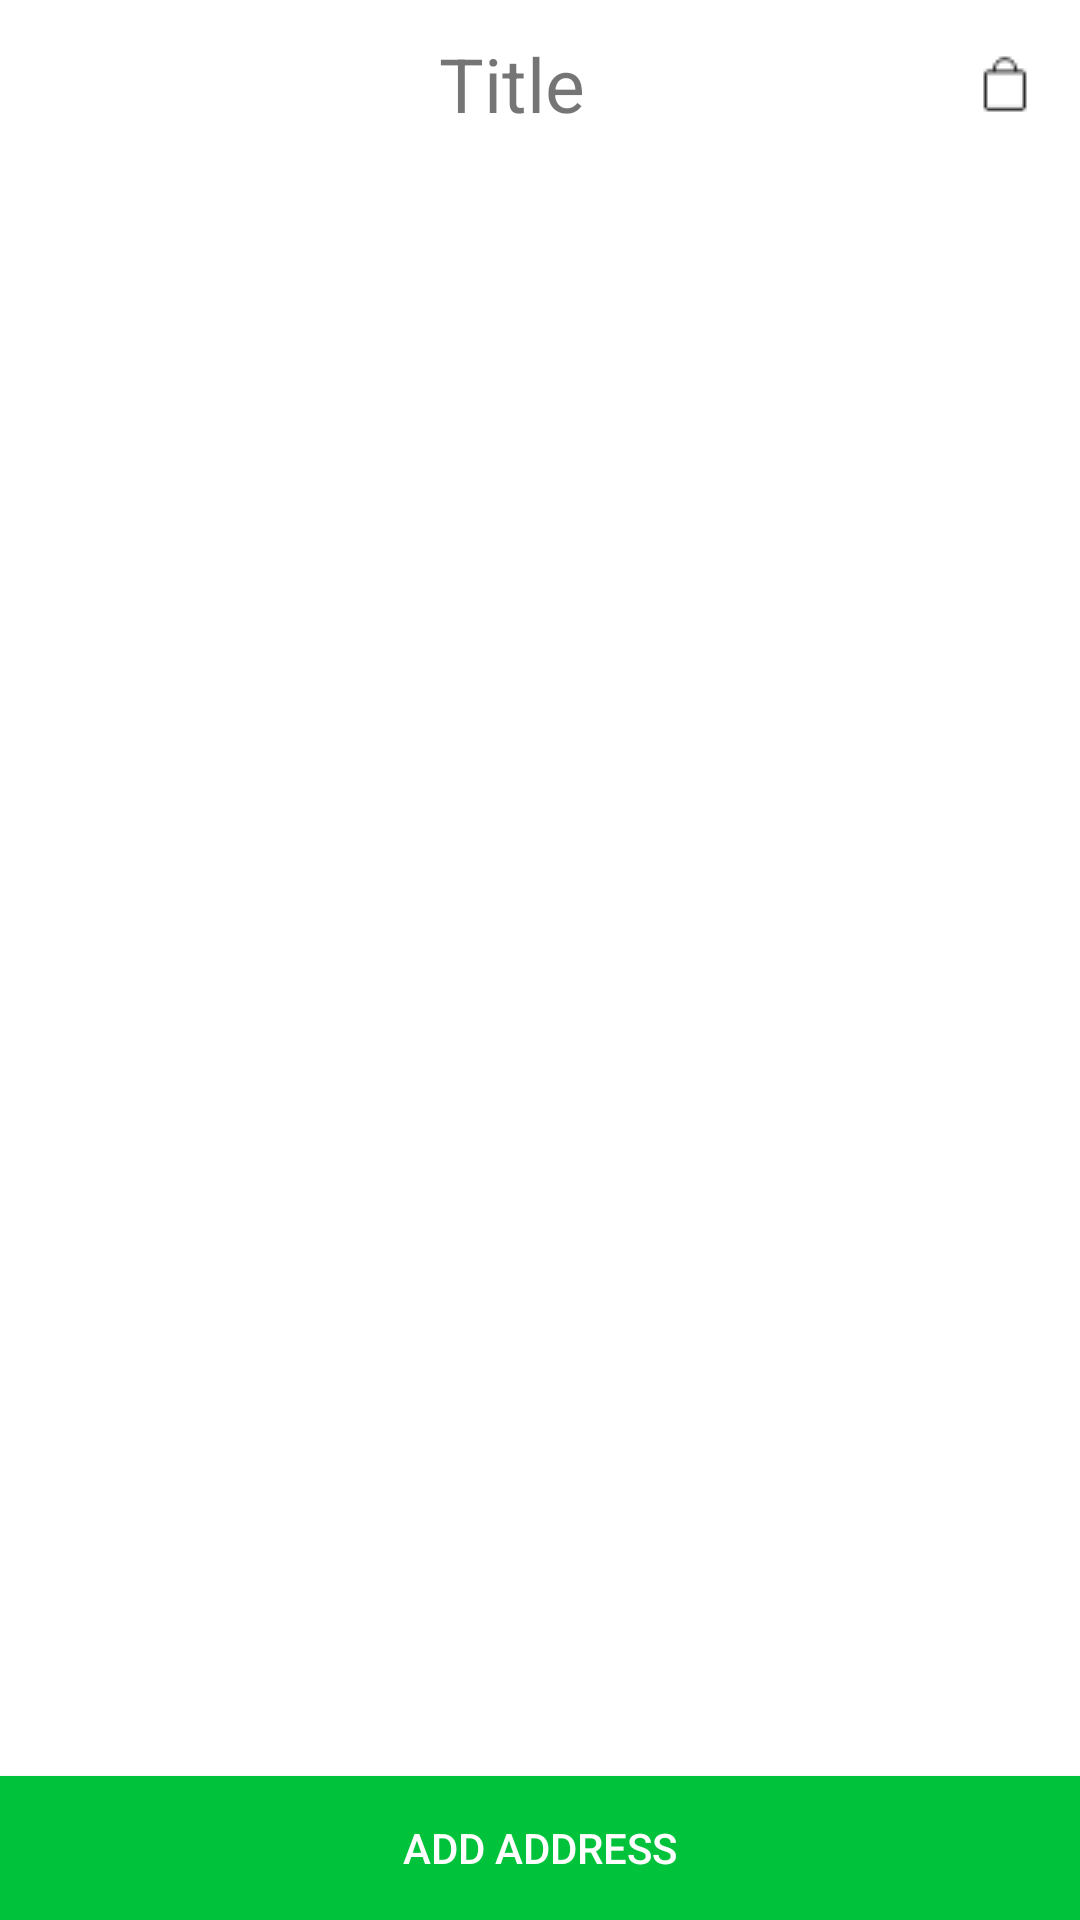

Screen size 1080px×1920px. Icon name, then its box in pixels as (x1, y1, x2, y2):
bag: (983, 56, 1027, 112)
